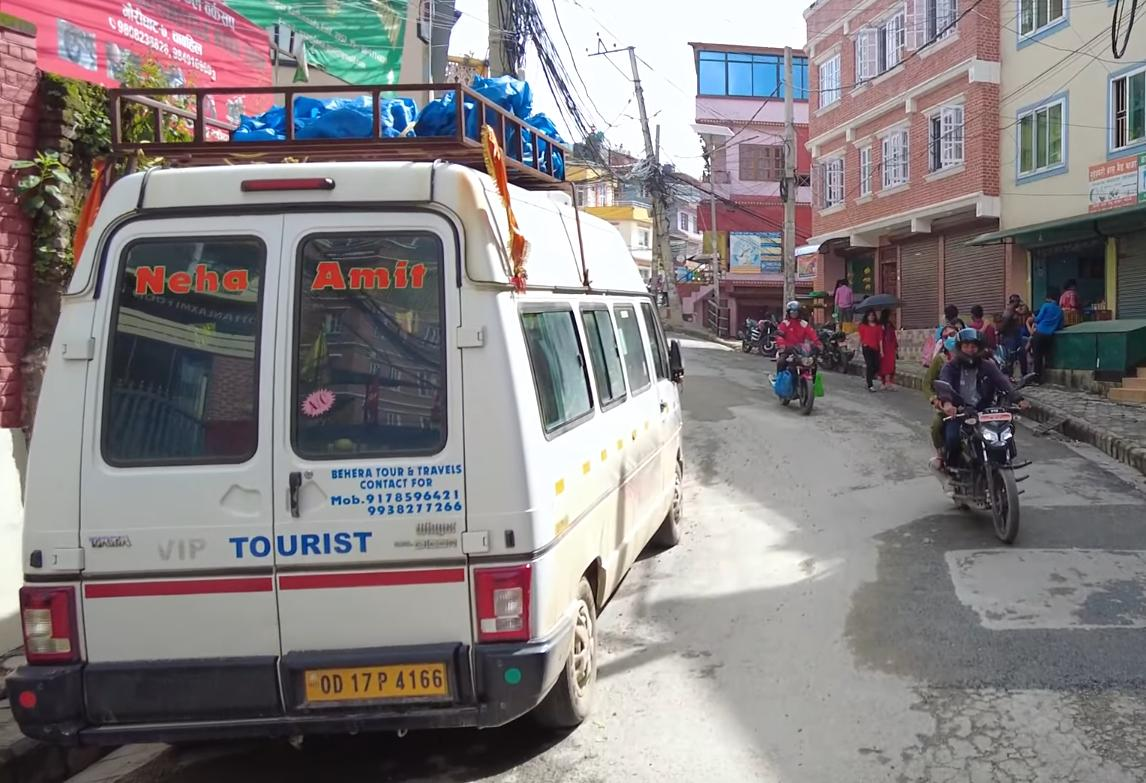bike: (930, 366, 1041, 544), (764, 337, 827, 419)
micro_bus: (8, 128, 701, 762)
